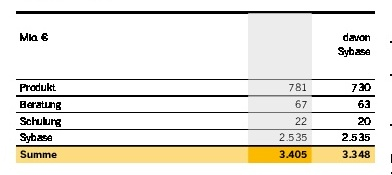table: (0, 0, 392, 175)
